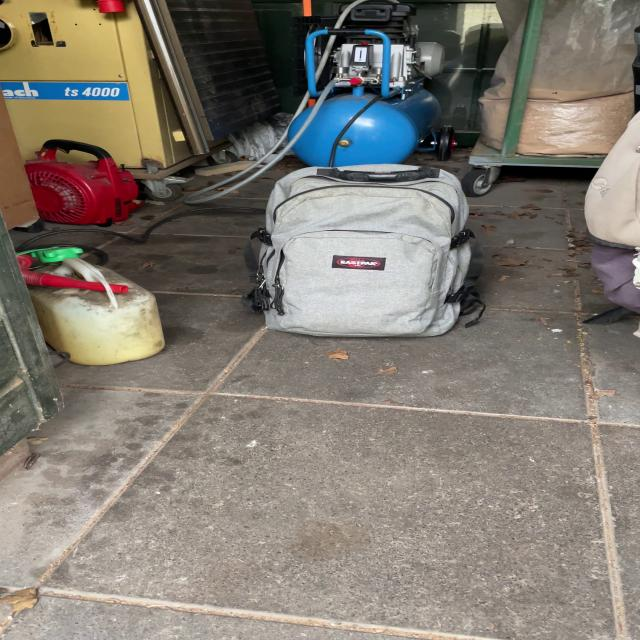backpack: (232, 154, 496, 346)
